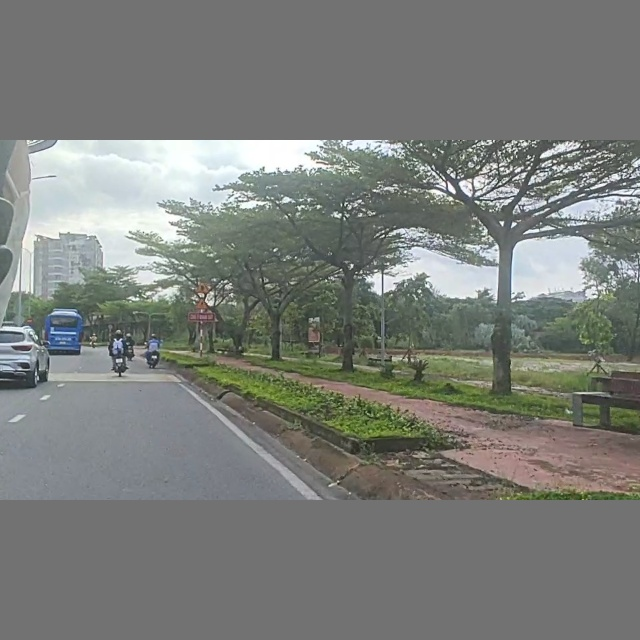W.224: (194, 295, 211, 310)
